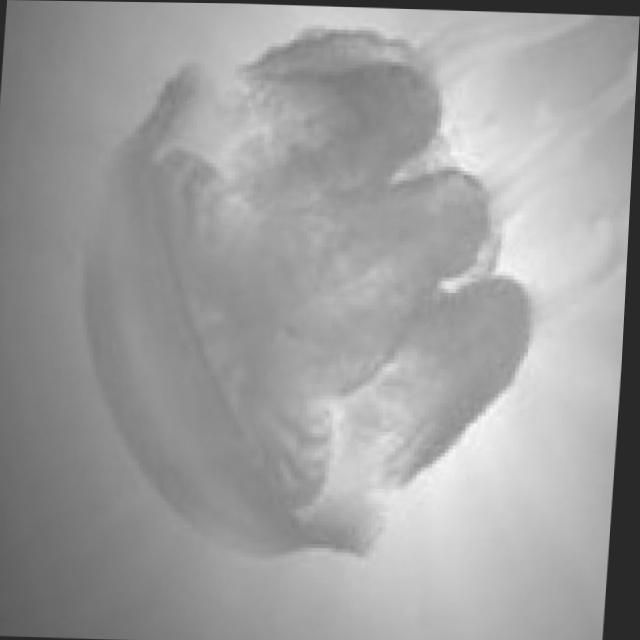Human: (65, 20, 557, 570)
